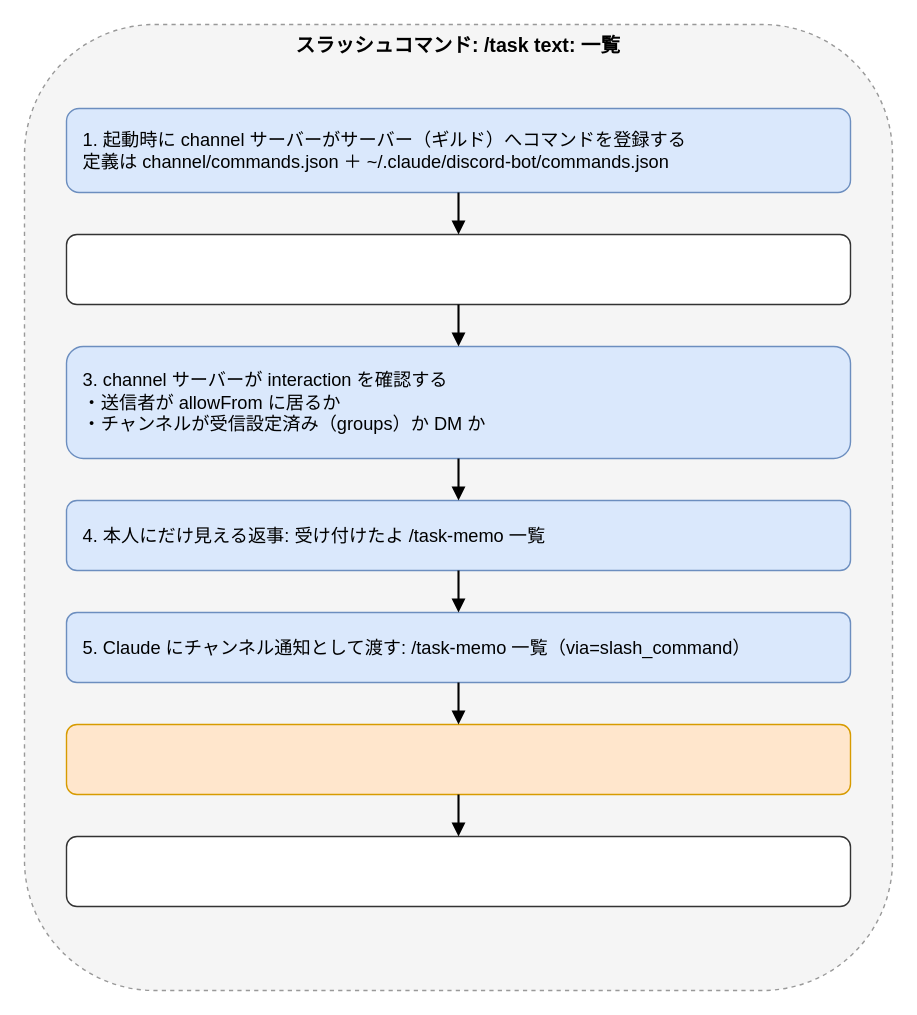
Some shapes in this 917 by 1015 pixel diagram are drawn without their labels. The shapes that lost their labels are listed below. From the top down, each one's centre as x and y in pixels, then its label:
At [457,268]: "2. ユーザーが補完から /task text: 一覧 を実行する".
At [457,758]: "6. Claude がスキルを実行し、reply ツールを呼ぶ".
At [457,870]: "7. 結果が通常のメッセージとしてチャンネルに投稿される".
